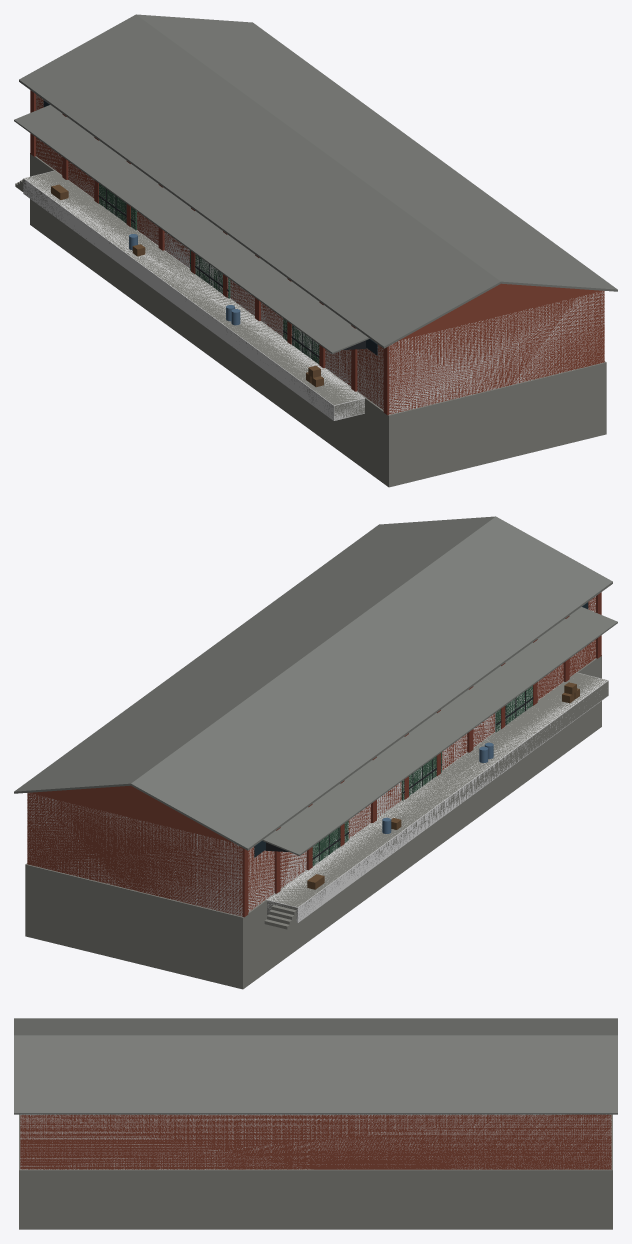
Rendered from depot.glb.
The picture shows the model from 3 angles, top to bottom: view 1: azimuth 30°, elevation 25°; view 2: azimuth 150°, elevation 25°; view 3: azimuth 270°, elevation 25°; orthographic projection. The views are drawn at different scales.
Parts seen in each view (by area): view 1: 02_#7a7c78, 00_#85857f, 01_#8a4a3a, solid.003, solid.004, 03_#7a4034_r320, 06_#3c5a48_noshadow, 08_#6a5038_r320; view 2: 02_#7a7c78, 00_#85857f, 01_#8a4a3a, solid.003, solid.004, 03_#7a4034_r320, 06_#3c5a48_noshadow; view 3: 02_#7a7c78, 00_#85857f, 01_#8a4a3a, solid.003.
Part boxes in pixels (left/top/right/bottom): 02_#7a7c78: left=14, top=14, right=617, bottom=353; 00_#85857f: left=15, top=153, right=606, bottom=487; 01_#8a4a3a: left=36, top=94, right=604, bottom=414; solid.003: left=36, top=95, right=604, bottom=414; solid.004: left=23, top=171, right=364, bottom=420; 03_#7a4034_r320: left=30, top=90, right=389, bottom=415; 06_#3c5a48_noshadow: left=99, top=183, right=319, bottom=364; 08_#6a5038_r320: left=51, top=184, right=323, bottom=387; 02_#7a7c78: left=14, top=516, right=617, bottom=855; 00_#85857f: left=25, top=655, right=608, bottom=989; 01_#8a4a3a: left=27, top=597, right=595, bottom=916; solid.003: left=27, top=596, right=595, bottom=916; solid.004: left=266, top=672, right=608, bottom=922; 03_#7a4034_r320: left=242, top=592, right=601, bottom=917; 06_#3c5a48_noshadow: left=312, top=685, right=532, bottom=866; 02_#7a7c78: left=14, top=1018, right=617, bottom=1114; 00_#85857f: left=19, top=1114, right=612, bottom=1229; 01_#8a4a3a: left=20, top=1114, right=611, bottom=1169; solid.003: left=20, top=1114, right=611, bottom=1169.
Size of the model in its own units: 19.5 by 12.9 by 47.
